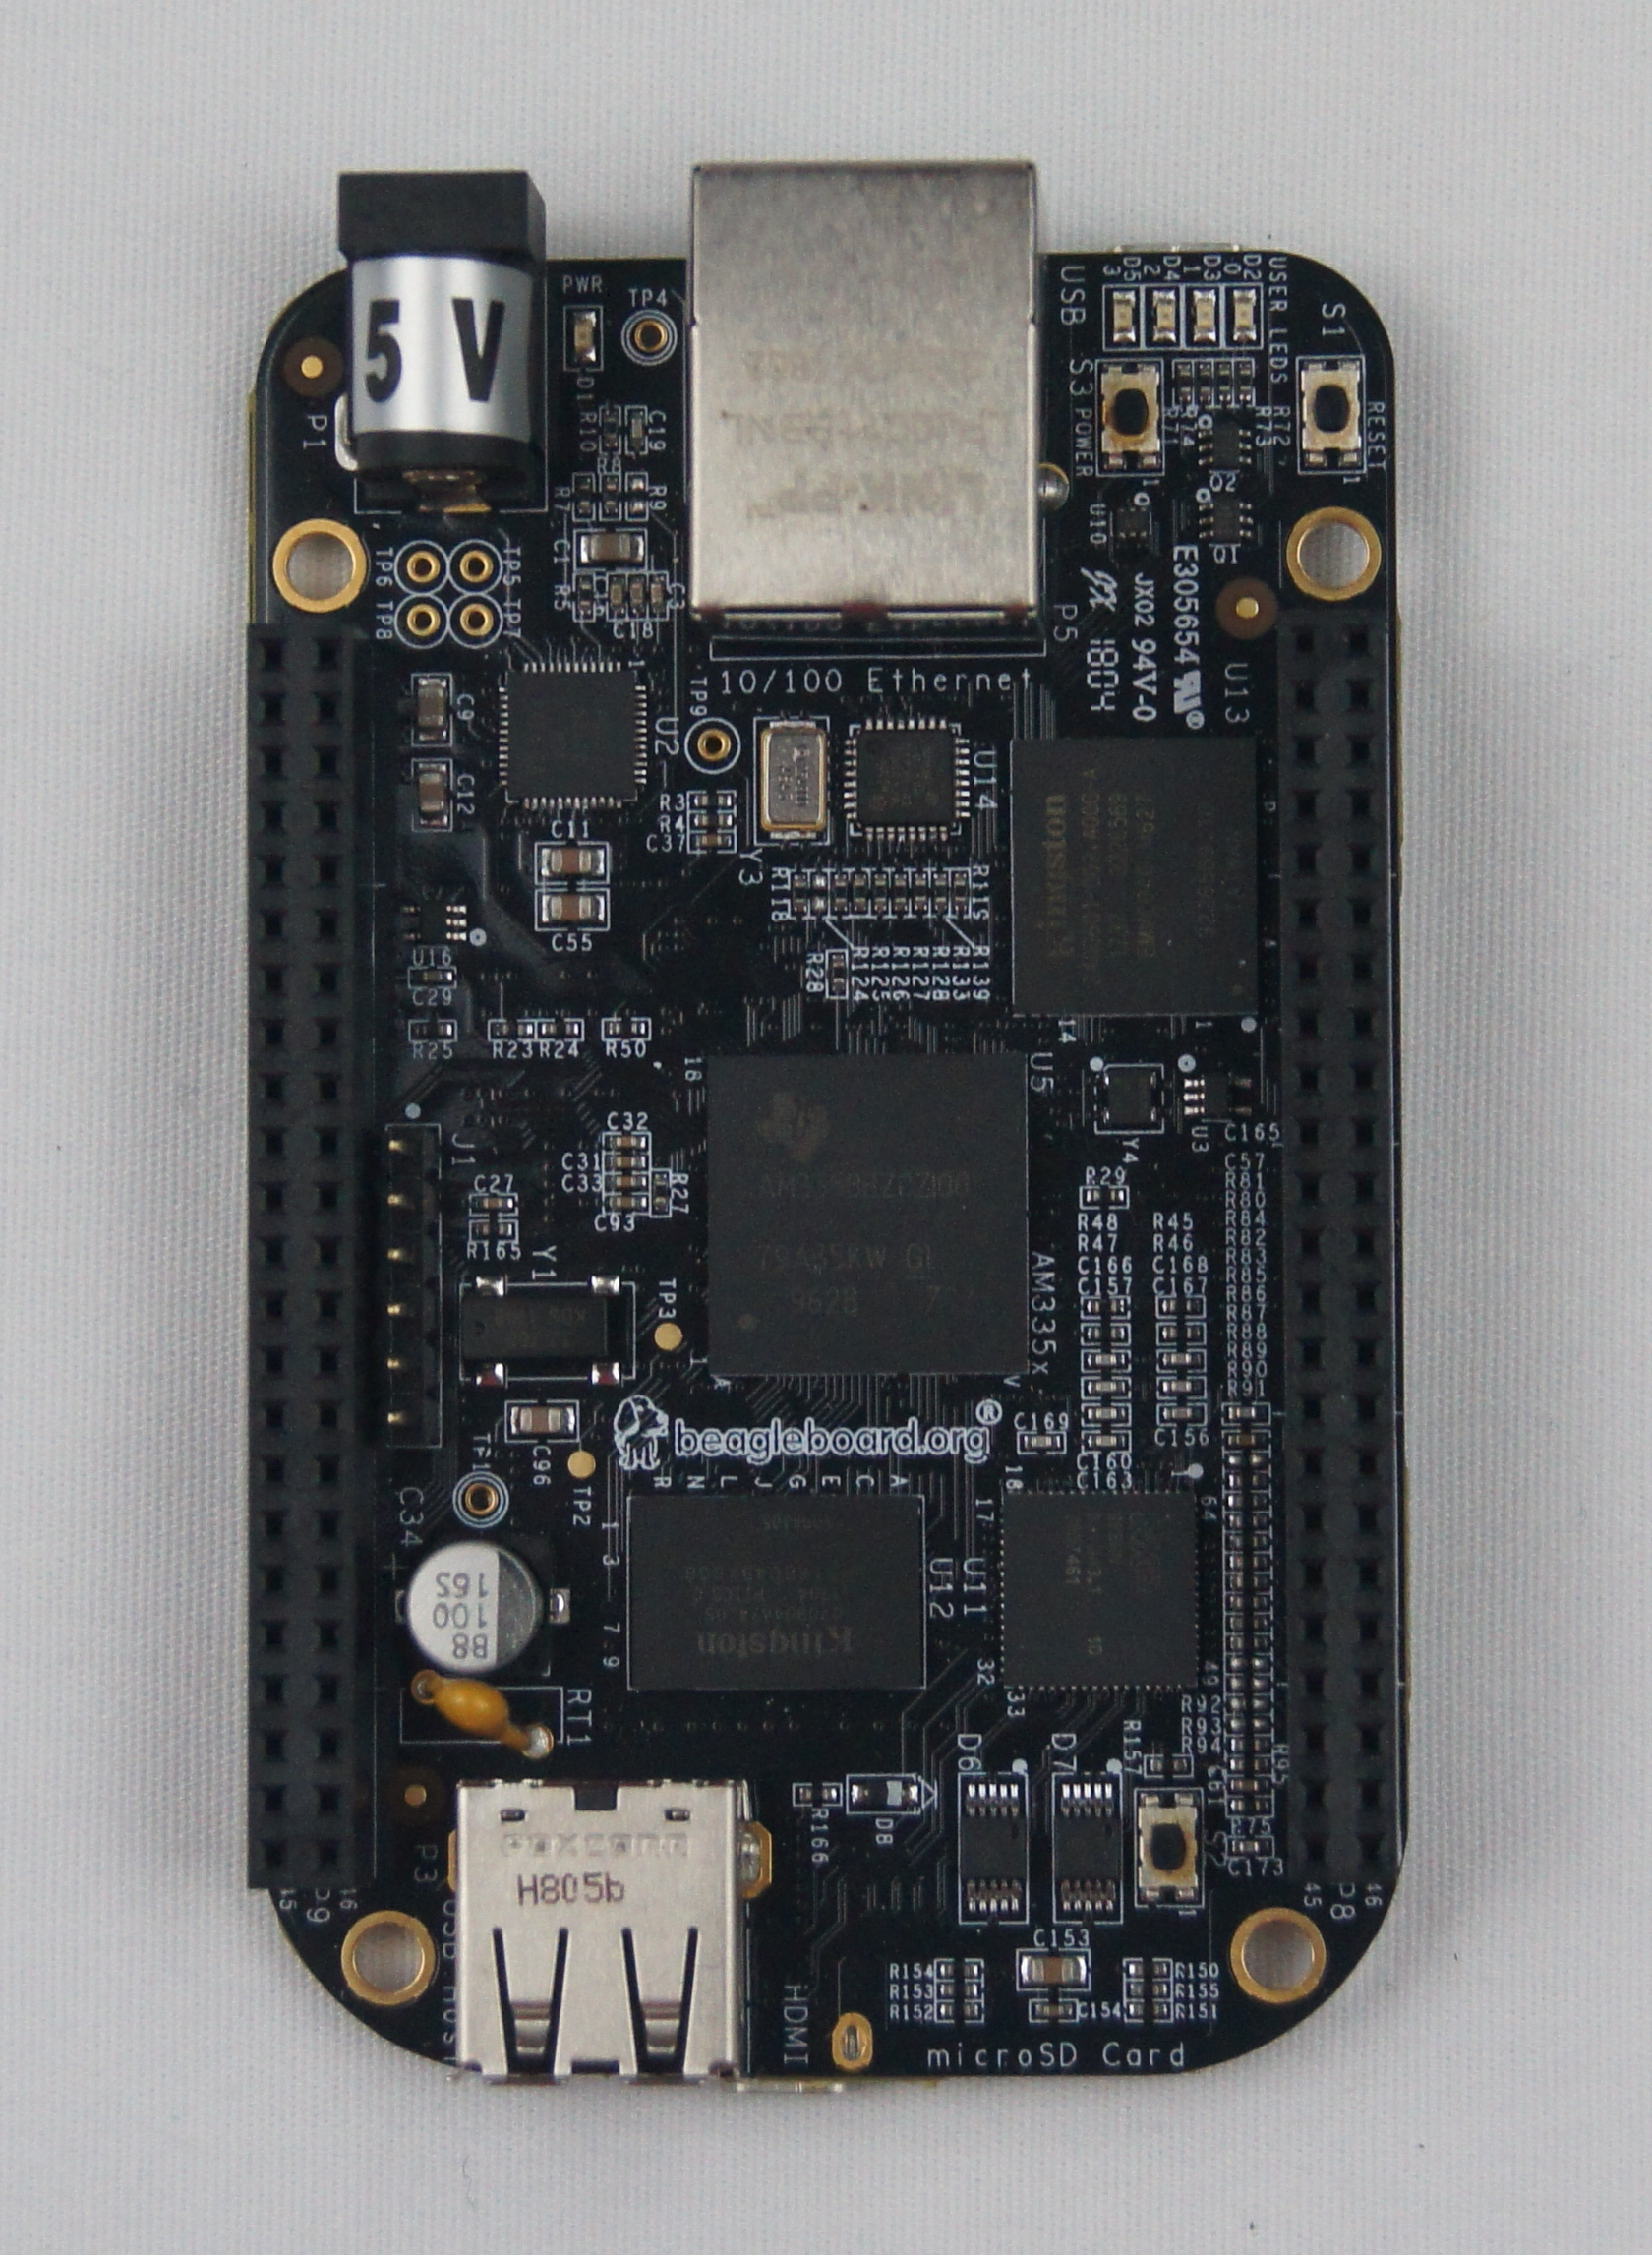kondensator: (387, 1535, 555, 1674), (411, 678, 451, 744), (409, 763, 448, 823), (537, 891, 602, 926), (534, 842, 602, 874), (1022, 1956, 1083, 1982), (507, 1408, 572, 1430), (583, 534, 639, 560), (1225, 1404, 1283, 1427), (647, 578, 670, 620), (1223, 1434, 1277, 1451), (1153, 1378, 1204, 1394), (471, 1196, 520, 1212), (602, 1192, 646, 1210), (1087, 1350, 1125, 1369), (626, 574, 644, 615), (1227, 1775, 1265, 1793), (1020, 1430, 1055, 1450), (1162, 1404, 1200, 1422), (689, 833, 731, 849), (1158, 1350, 1199, 1366), (415, 968, 450, 986), (604, 1171, 647, 1185), (609, 1135, 647, 1150), (1085, 1436, 1123, 1451), (630, 411, 646, 448), (1034, 2003, 1069, 2019), (607, 1152, 644, 1166), (1087, 1408, 1123, 1422), (1087, 1381, 1122, 1394), (1232, 1838, 1260, 1852), (612, 576, 621, 615)
